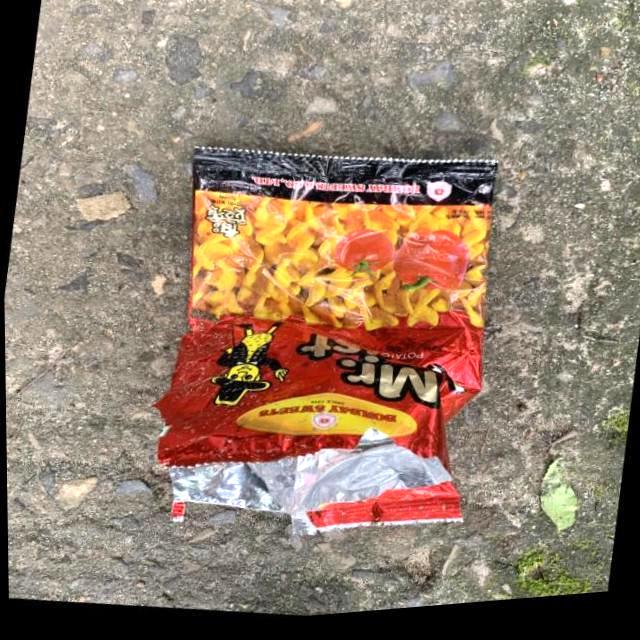packet: (129, 114, 531, 575)
